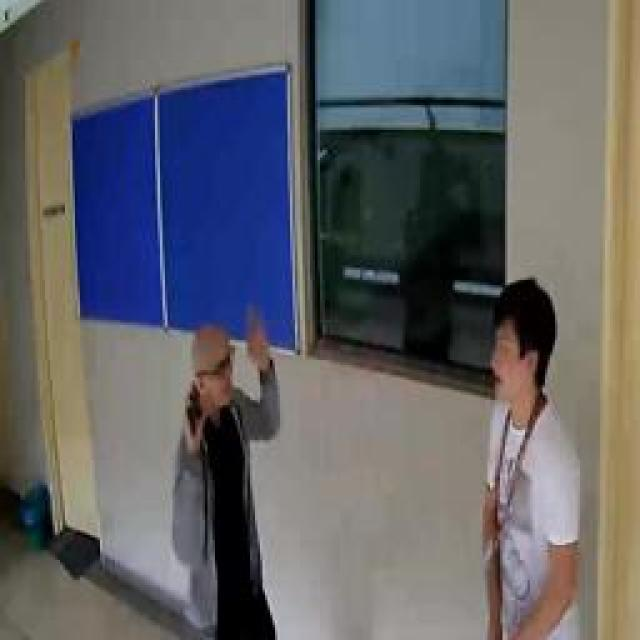Guns: (445, 632, 510, 640)
